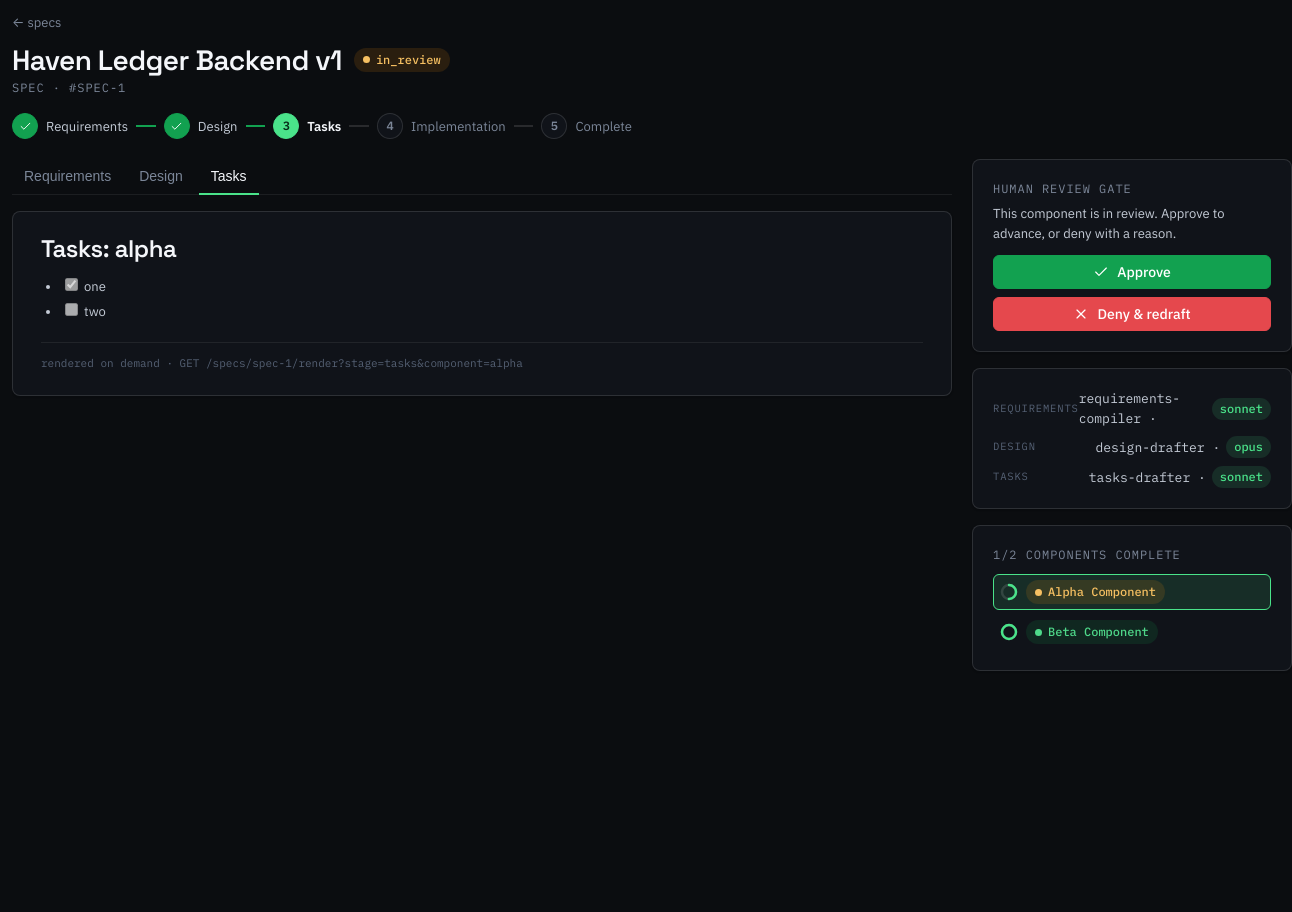
Test case: SpecDetailPage — Tasks tab › switches the rendered doc and review-gate status when another switcher row is clicked
Check: the heading "Tasks: alpha" is shown, box [41,233,176,264]
Click the text "Beta Component" at (1098, 632), box [1048,623,1149,641]
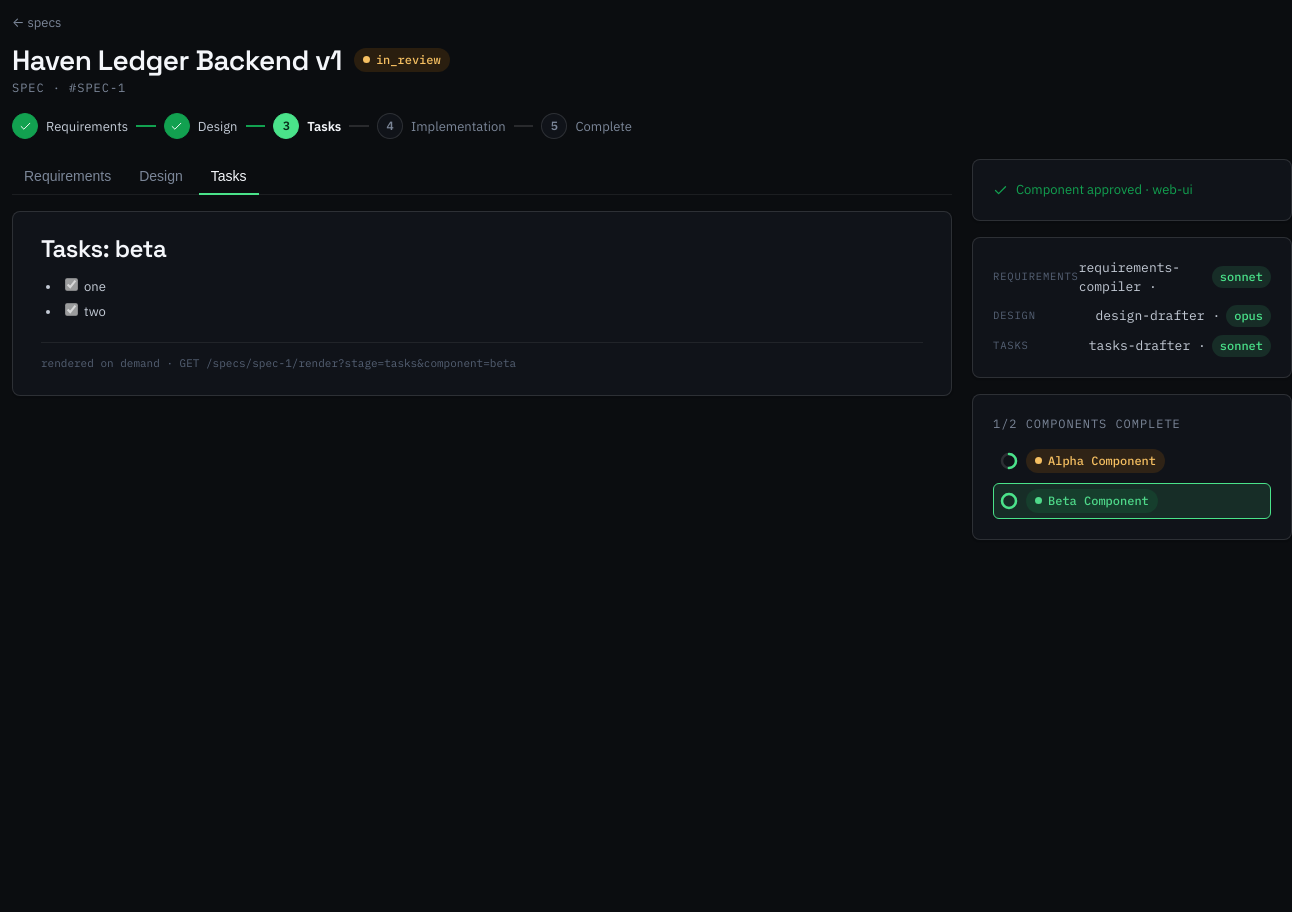
Check: the heading "Tasks: beta" is shown, box [41,233,166,264]
Check: the text "Component approved · web-ui" is shown, box [993,181,1193,198]
